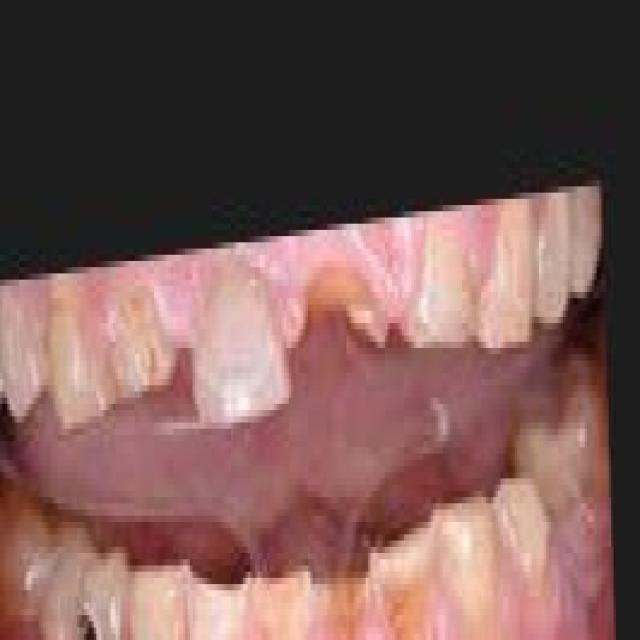caries: (267, 237, 381, 355), (458, 210, 531, 350), (491, 458, 555, 614), (43, 292, 112, 429), (109, 272, 170, 402), (372, 535, 444, 640), (310, 546, 371, 640), (66, 543, 116, 640)
